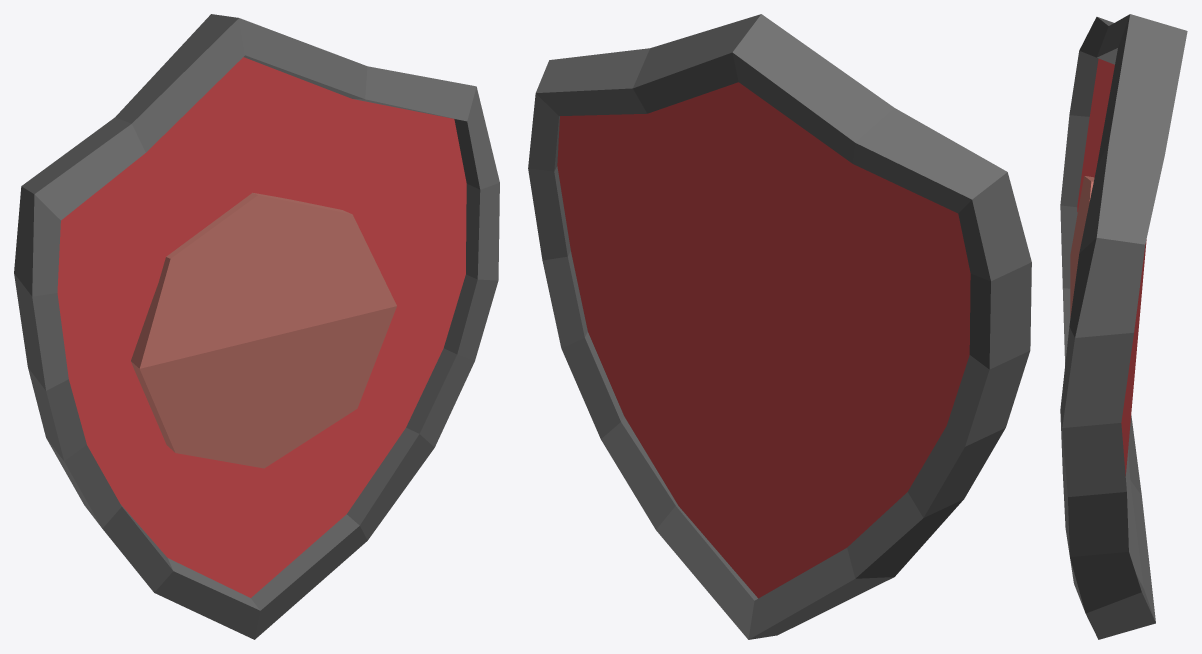
Rendered from Shield_2_Red.fbx.
3 views of the same model, side by side, from view 1: azimuth 30°, elevation 25°; view 2: azimuth 150°, elevation 25°; view 3: azimuth 270°, elevation 25° (orthographic). The views are drawn at different scales.
Visible parts, largest first — view 1: Shield_2_Red_Part_3, Shield_2_Red_Part_1, Shield_2_Red_Part_2; view 2: Shield_2_Red_Part_3, Shield_2_Red_Part_1; view 3: Shield_2_Red_Part_1, Shield_2_Red_Part_3, Shield_2_Red_Part_2.
Boxes of the visible parts, <box> form: Shield_2_Red_Part_3: <box>57,57,466,597</box>; Shield_2_Red_Part_1: <box>14,14,499,639</box>; Shield_2_Red_Part_2: <box>131,192,396,468</box>; Shield_2_Red_Part_3: <box>557,82,970,598</box>; Shield_2_Red_Part_1: <box>528,14,1031,639</box>; Shield_2_Red_Part_1: <box>1060,14,1187,639</box>; Shield_2_Red_Part_3: <box>1077,58,1146,475</box>; Shield_2_Red_Part_2: <box>1070,176,1094,317</box>.
Size of the model in its own units: 79.95 by 99.74 by 18.38.
